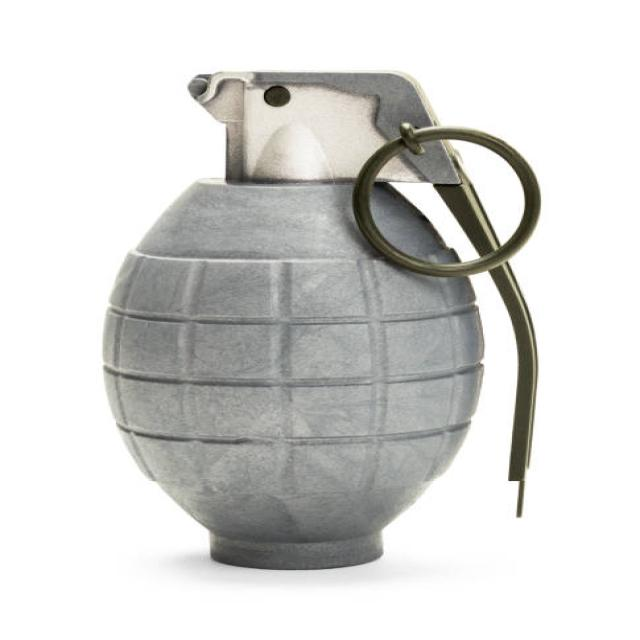grenade: (97, 68, 556, 576)
